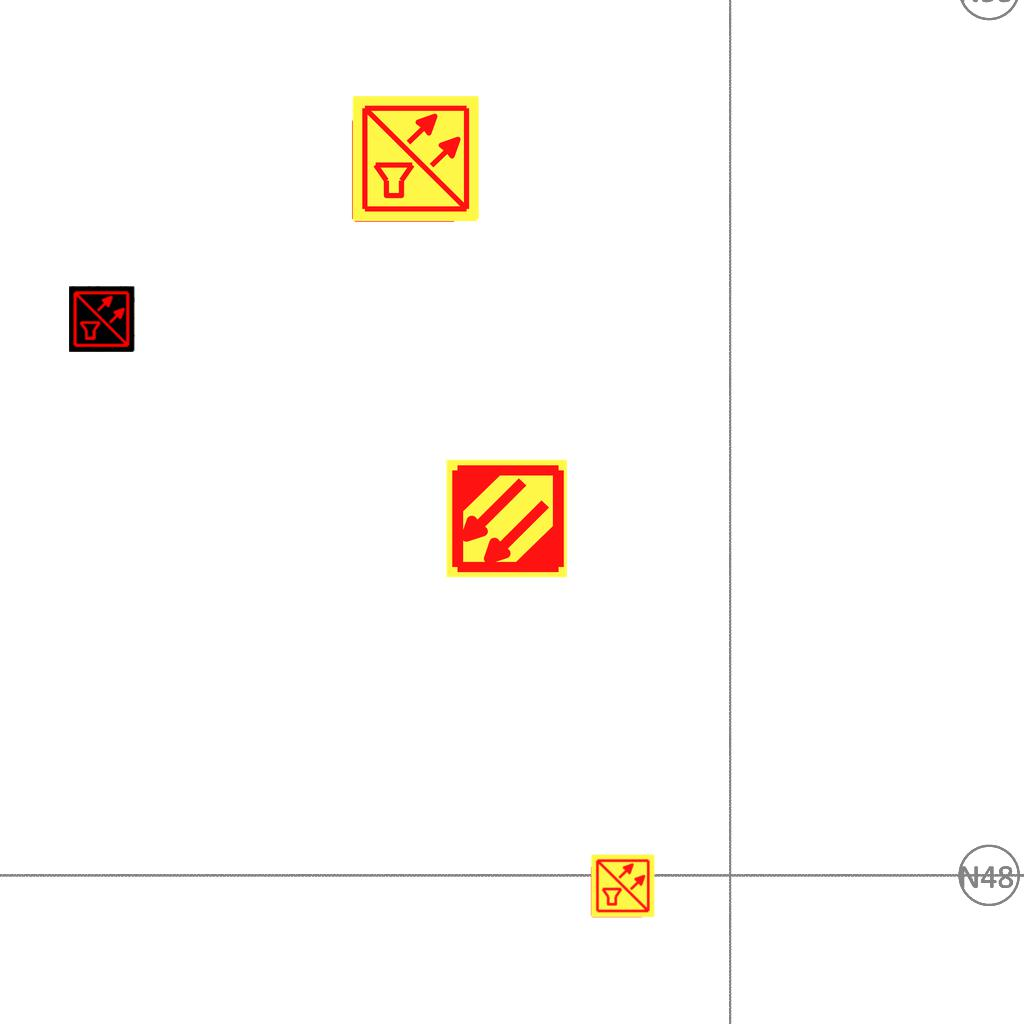ASR_Ansaugrauchmelder: (444, 456, 569, 581)
OKW_Multisensormelder_(Kombination_optischer_Rauch-Kahlenmonoxid_Waerme-Melder): (350, 93, 482, 225), (590, 853, 656, 919), (69, 286, 135, 352)
